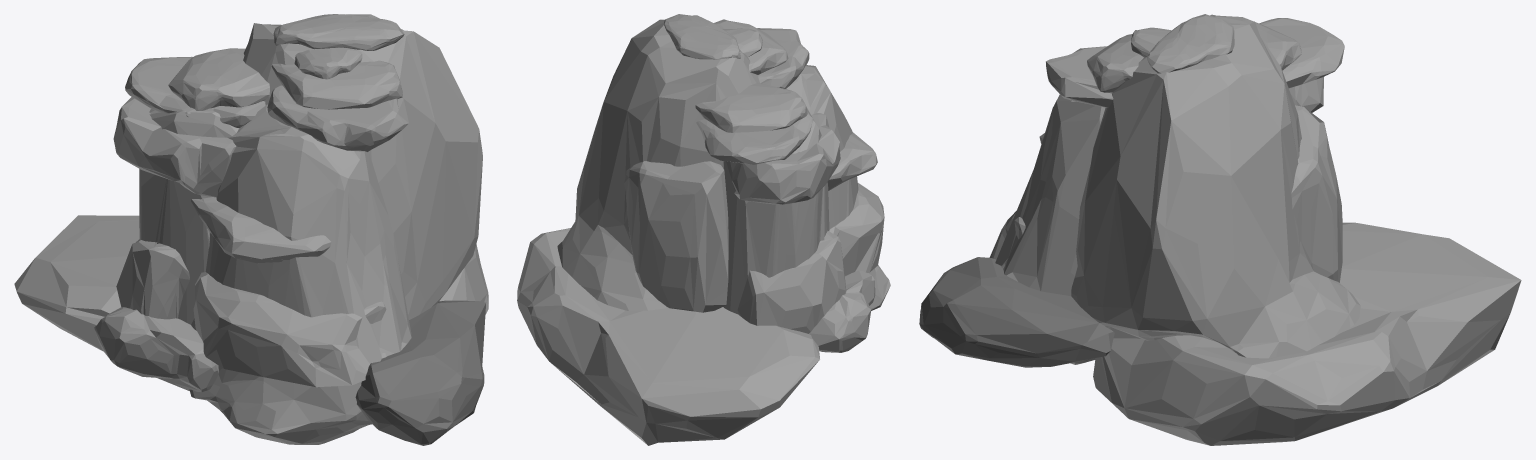
The model's file is Rock_027.glb.
3 renders of one model, left to right at view 1: azimuth 30°, elevation 25°; view 2: azimuth 150°, elevation 25°; view 3: azimuth 270°, elevation 25°, orthographic. The views are drawn at different scales.
Parts seen in each view (by area): view 1: Rock_027; view 2: Rock_027; view 3: Rock_027.
Part boxes in pixels (x1,y1,x2,y2): Rock_027: (14,14,488,445); Rock_027: (517,14,890,445); Rock_027: (919,14,1521,445).
Bounding box in the file's own units: 4.78 × 4.39 × 6.61.
1 material, 1 textured.
